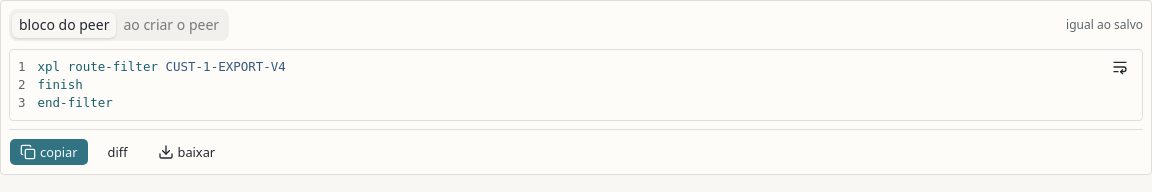
Test case: as abas › uma aba por bloco, e so as disponiveis
The image size is (1152, 192).
expect the tab "bloco do peer" is shown: met, box left=12, top=12, right=116, bottom=38
What coordinates should you click on to do the following:
click the tab "ao criar o peer"
I would click on:
 (171, 25)
Its box is left=116, top=12, right=226, bottom=38.
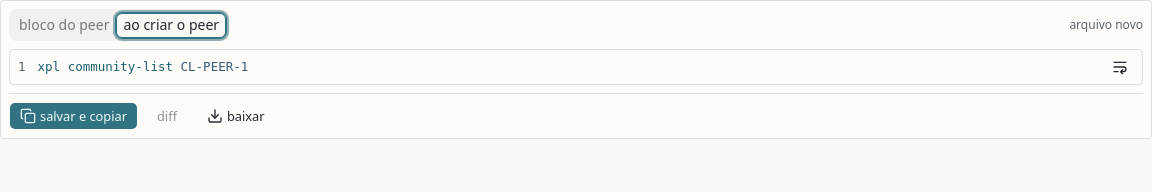
expect the text "CL-PEER-1" is shown: met, box left=180, top=59, right=248, bottom=74
